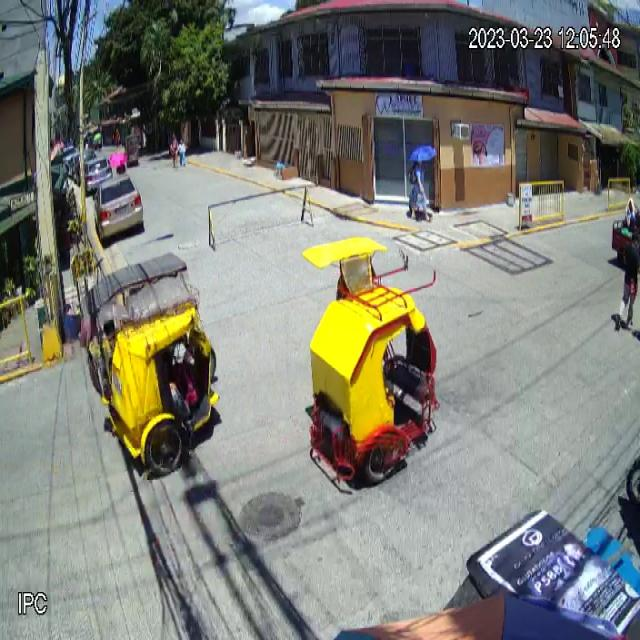Tricycle: (86, 247, 219, 479)
